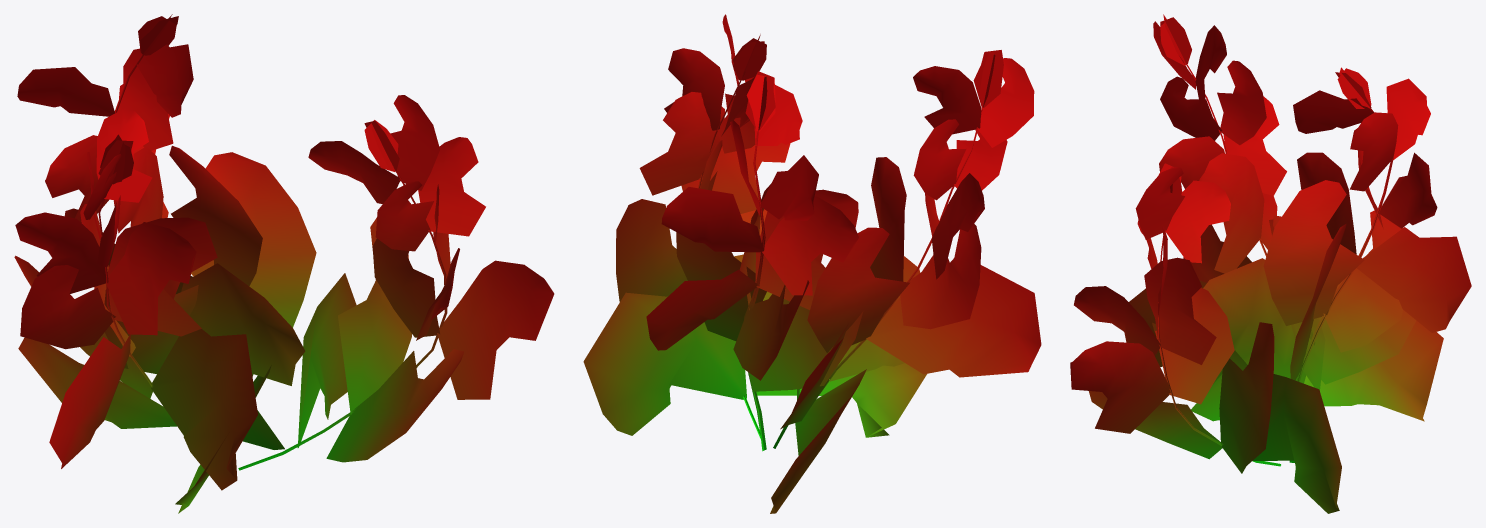
File: White Ramping Fumitory_LOD1_Var2_ti4efc3ia.fbx
3 views of the same model, side by side, from view 1: azimuth 30°, elevation 25°; view 2: azimuth 150°, elevation 25°; view 3: azimuth 270°, elevation 25° (orthographic). The views are drawn at different scales.
Parts seen in each view (by area): view 1: _48ae_Var2_LOD1; view 2: _48ae_Var2_LOD1; view 3: _48ae_Var2_LOD1.
Boxes of the visible parts, <box> form: _48ae_Var2_LOD1: <box>14,14,554,513</box>; _48ae_Var2_LOD1: <box>583,14,1041,513</box>; _48ae_Var2_LOD1: <box>1070,14,1471,513</box>.
Bounding box in the file's own units: 83.89 × 79.37 × 75.77.
